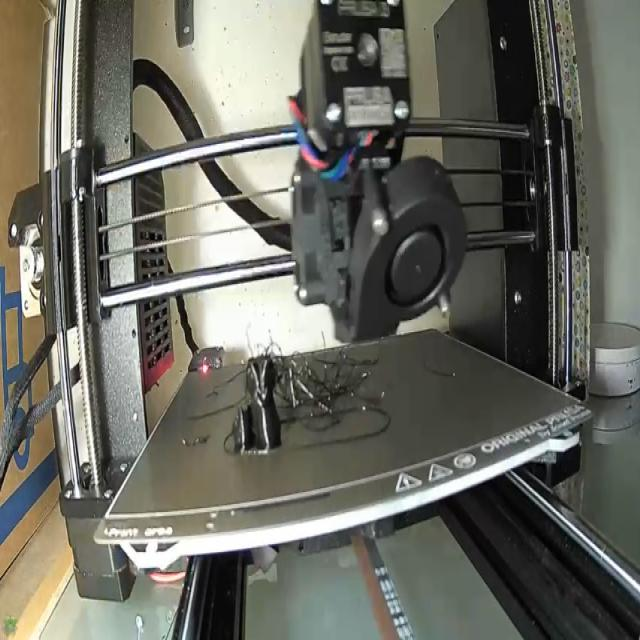spaghetti: (266, 326, 380, 424)
